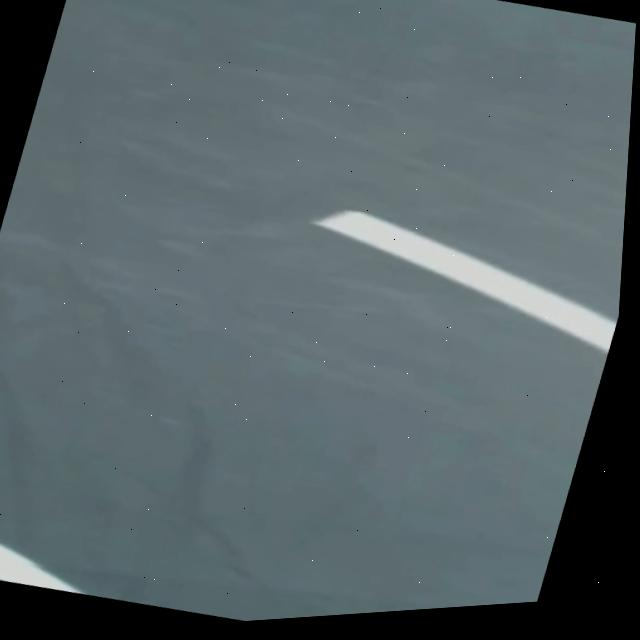center: (312, 211, 616, 354)
left: (0, 545, 83, 594)
